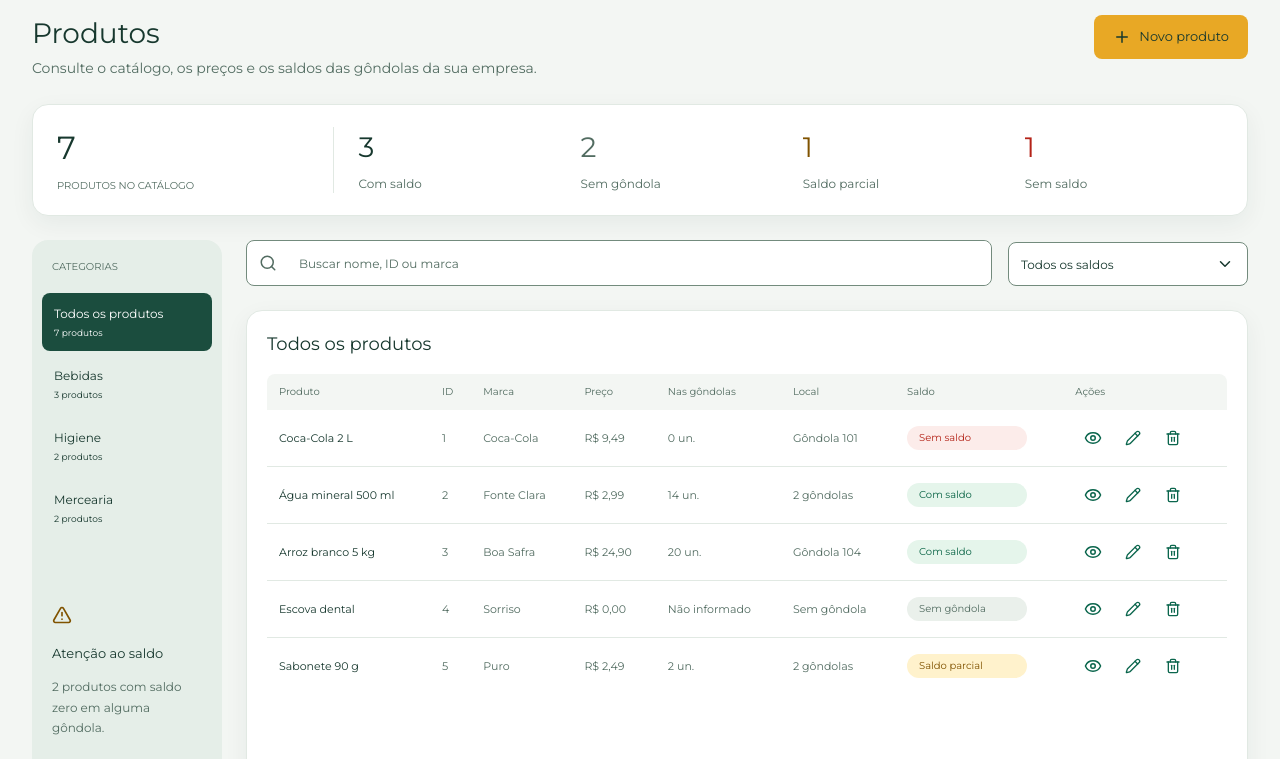
Test: combines category, quantity and accent-insensitive search
expect the table is shown: met, box [267, 374, 1227, 694]
Click the button "Bebidas 3 produtos".
click(127, 384)  # box [42, 355, 212, 413]
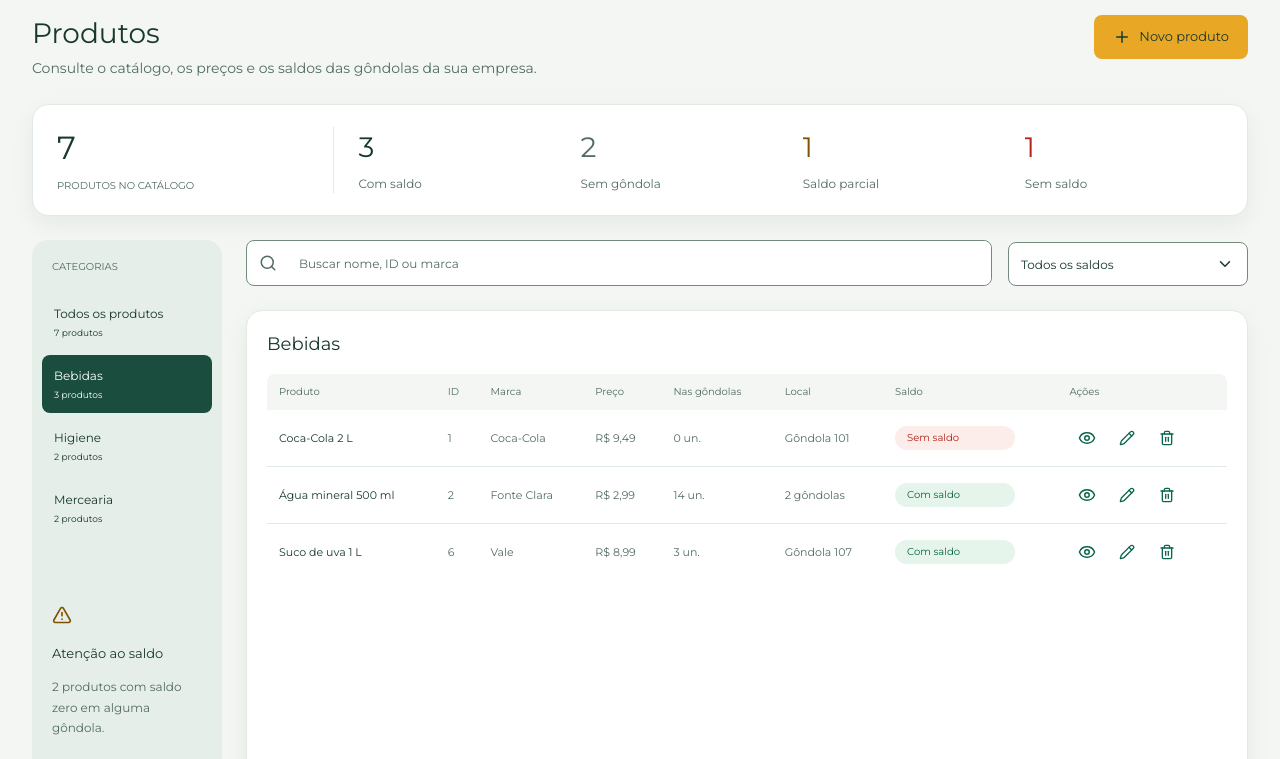
Select "Com saldo" in the dropdown named "Saldo nas gôndolas" at (1128, 264), box [1008, 242, 1248, 286]
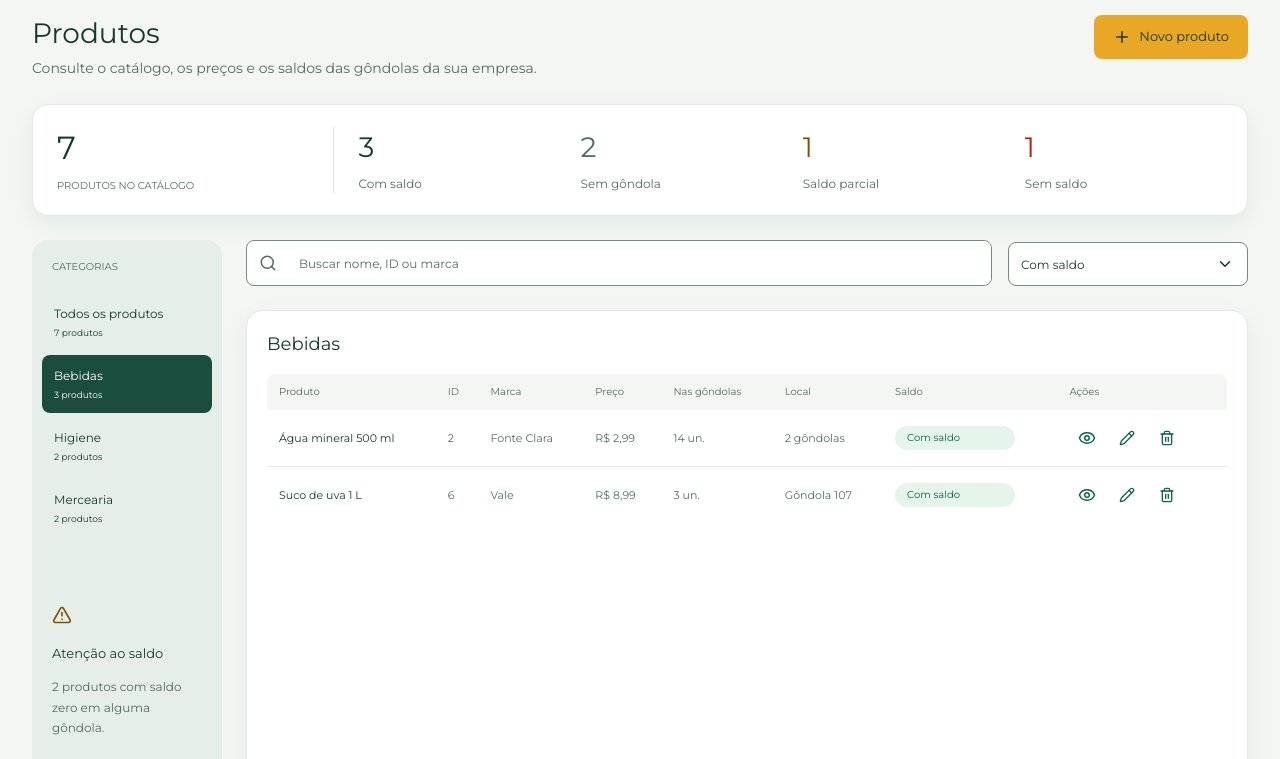
Type " AGUA " into the search field.
click(639, 263); type(" AGUA ")  # box [287, 241, 991, 285]
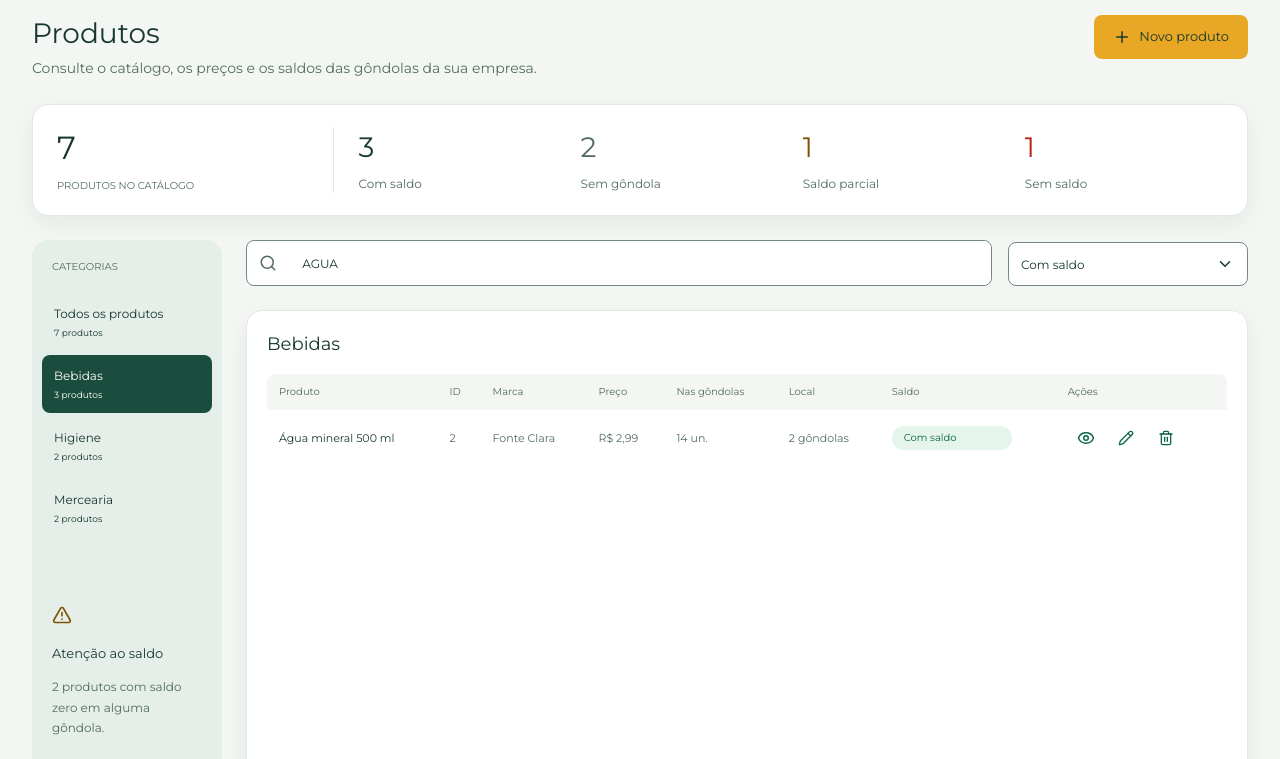
expect the column heading "Água mineral 500 ml" is shown: met, box [267, 410, 438, 466]
Click the button "Higiene 2 produtos".
click(127, 446)  # box [42, 417, 212, 475]
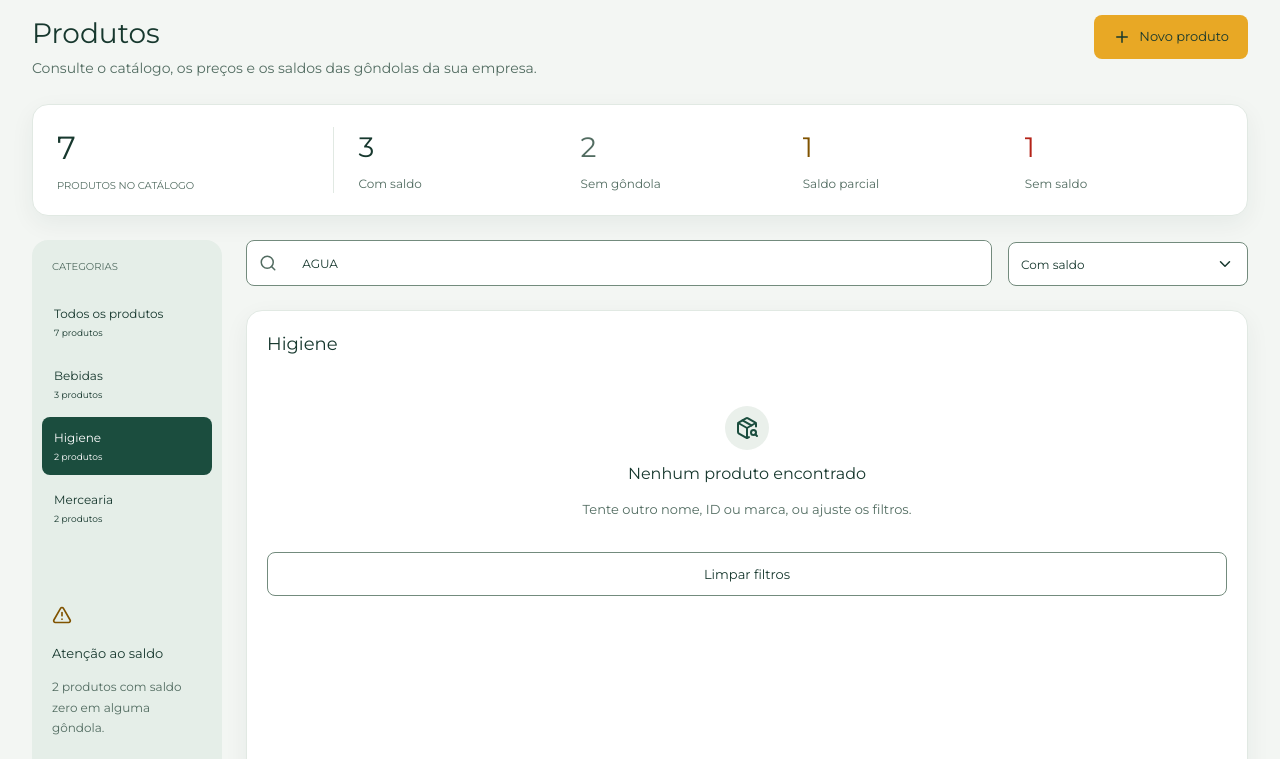
expect the text "Nenhum produto encontrado" is shown: met, box [628, 462, 866, 486]
Click the button "Limpar filtros".
click(747, 574)  # box [267, 552, 1227, 596]
(page scrolled)
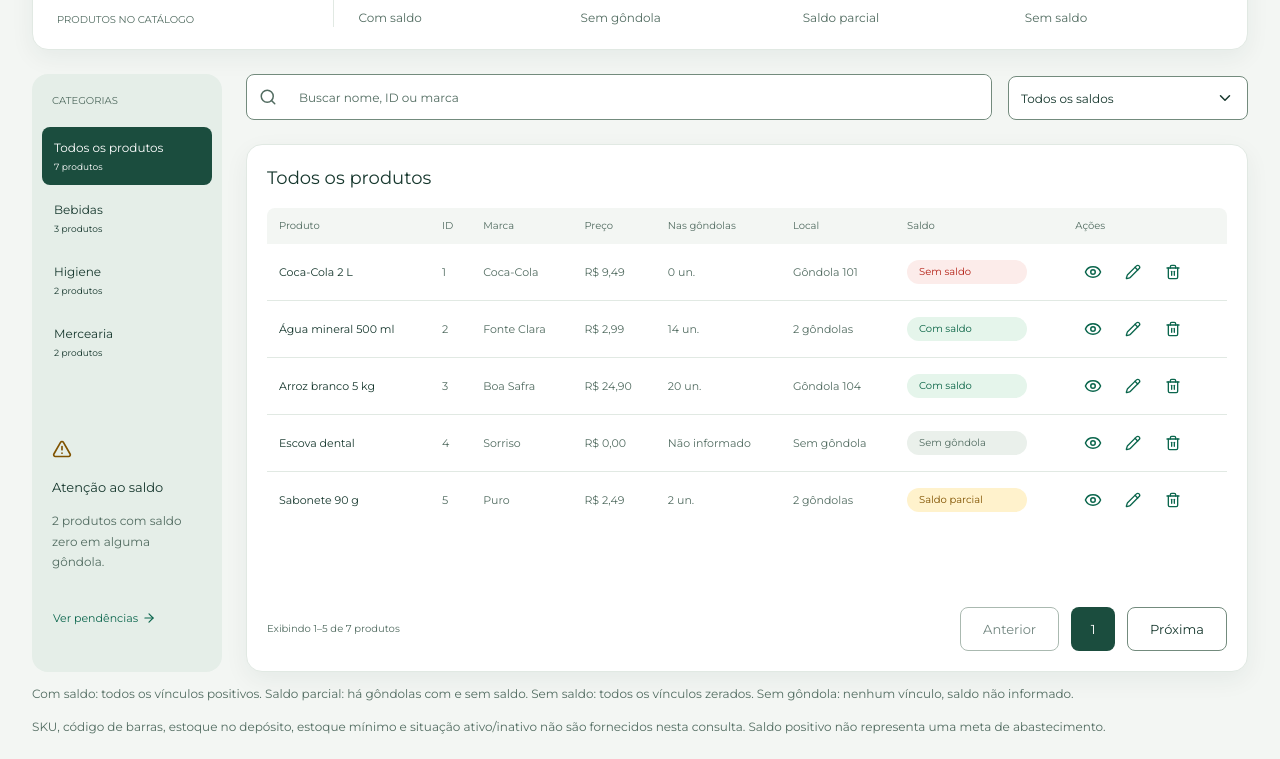
expect the message reads "Exibindo 1–5 de 7 produtos": met, box [267, 622, 400, 635]
